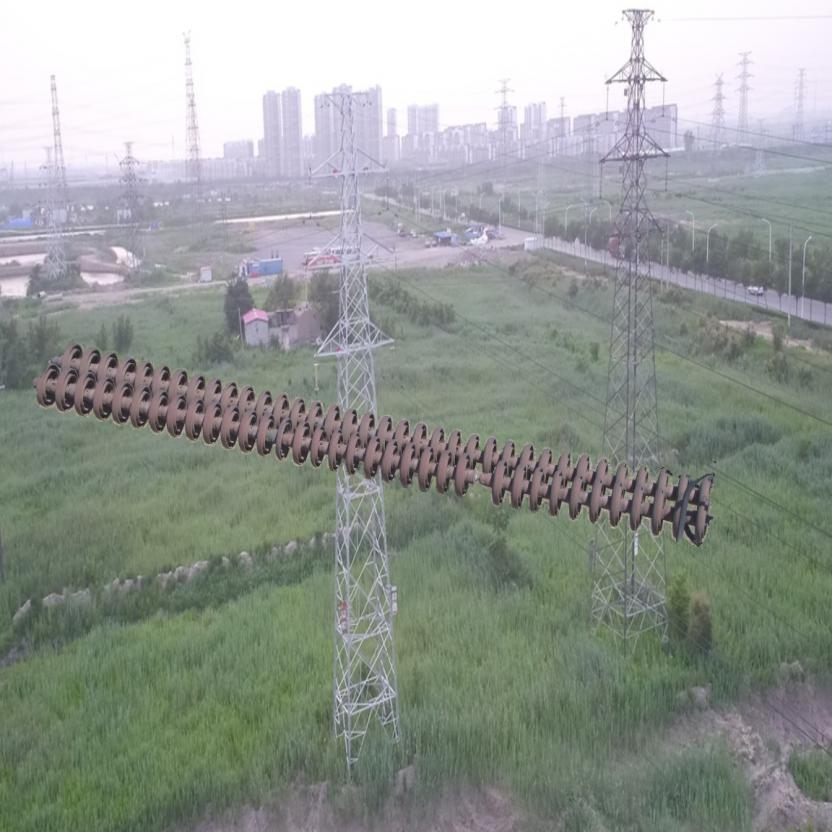defect: (448, 449, 508, 508)
